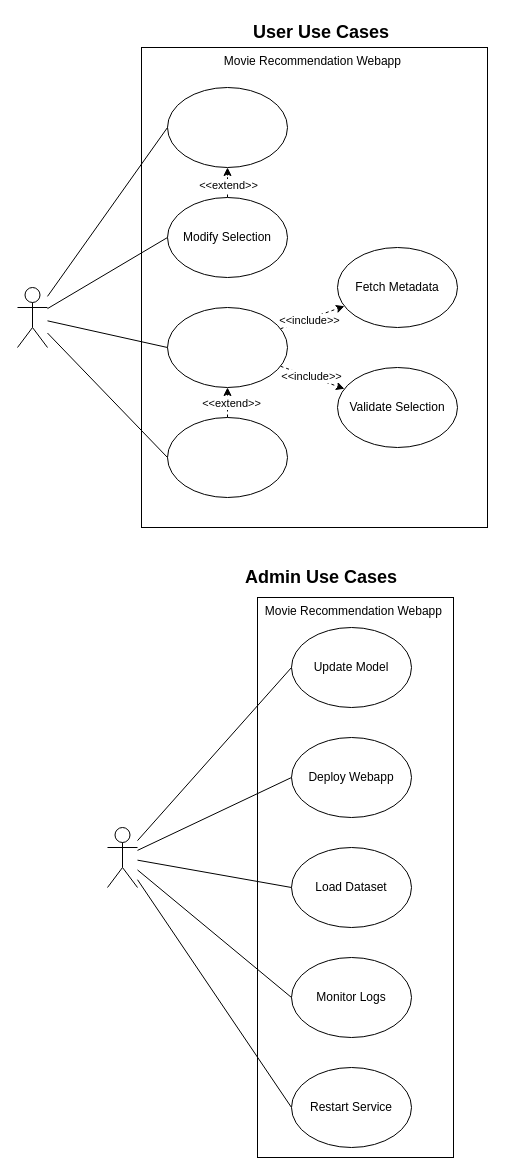
Some shapes in this 505 by 1175 pixel diagram are drawn without their labels. Here are the shapes that lost their labels. From the top down, the centre of each, then its label:
At pixel 227 127: "Select Movies".
At pixel 32 317: "User".
At pixel 227 347: "Get Recommendations".
At pixel 227 457: "View Movie Details".
At pixel 122 857: "Admin".
